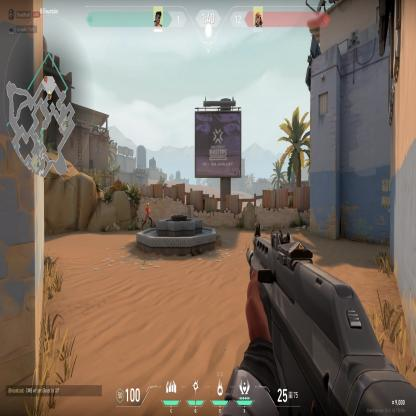enemy: (140, 202, 154, 229)
